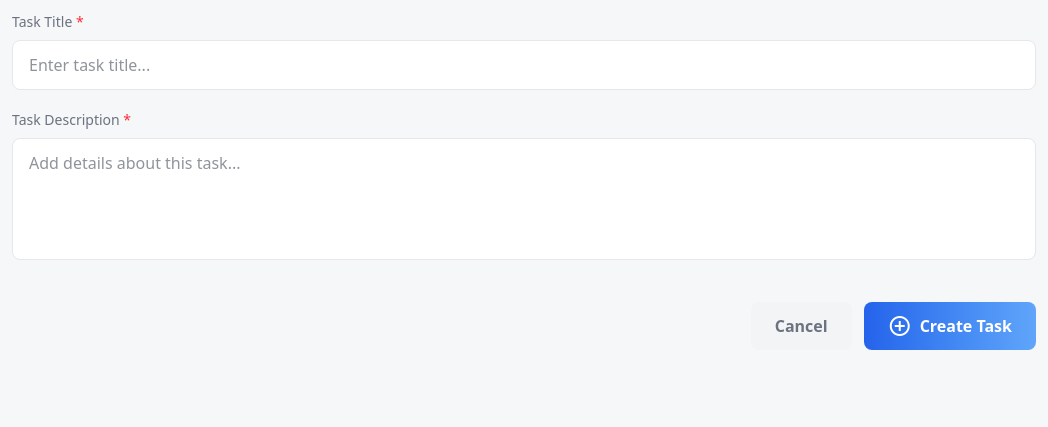
Scenario: TaskForm Component › should clear description error when user starts typing
# Submit empty form to trigger errors
Step 1. Click the button "Create Task" → (950, 326), box [864,302,1036,350]
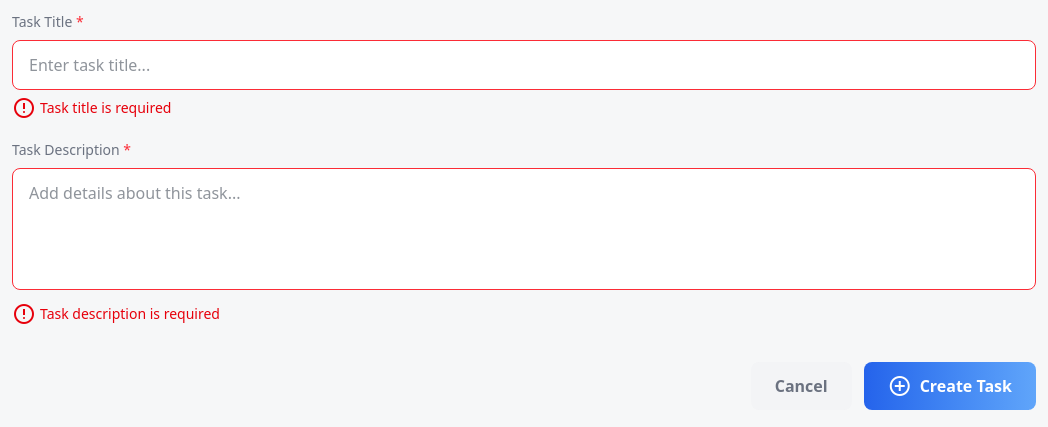
Now the text "Task description is required" is shown, box [12,300,220,328]
# Start typing in description field
Step 2. Type "S" into the text box with placeholder "Add details about this task..." → (524, 229), box [12,168,1036,290]
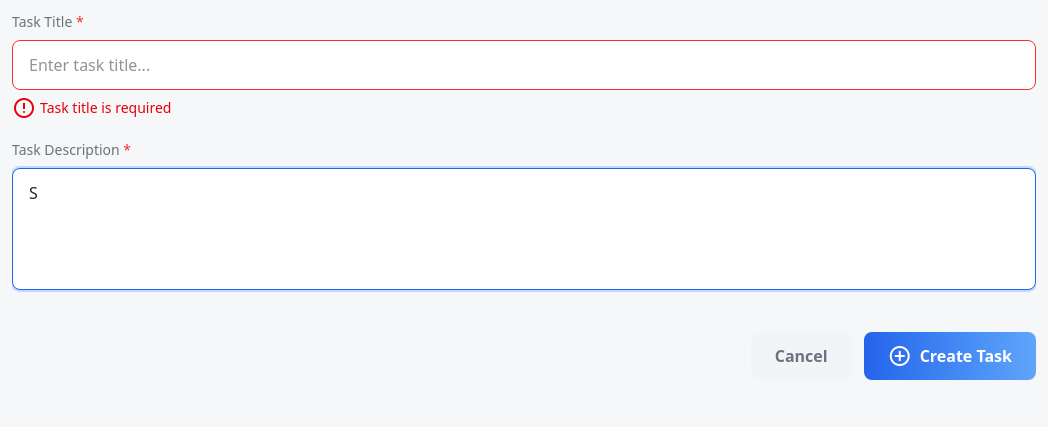
Now the text "Task description is required" is gone
